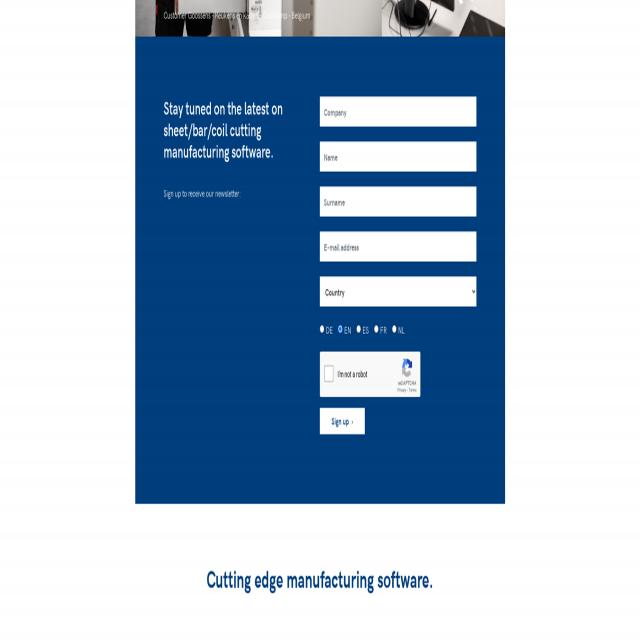button: (320, 408, 365, 434)
field: (320, 97, 476, 126), (320, 142, 476, 171), (320, 187, 476, 216), (320, 232, 476, 261), (320, 277, 476, 306), (392, 325, 406, 338), (320, 325, 335, 336), (338, 325, 352, 336), (374, 325, 388, 335), (324, 366, 333, 381), (357, 325, 369, 336)
